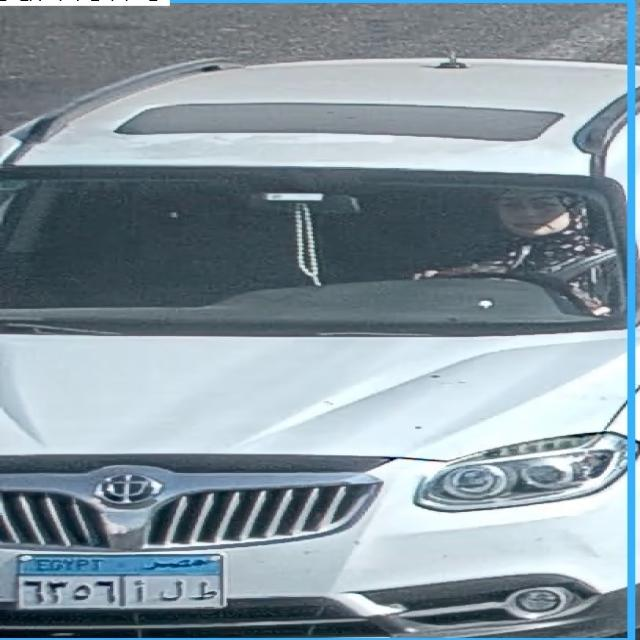windshield: (6, 166, 631, 330)
